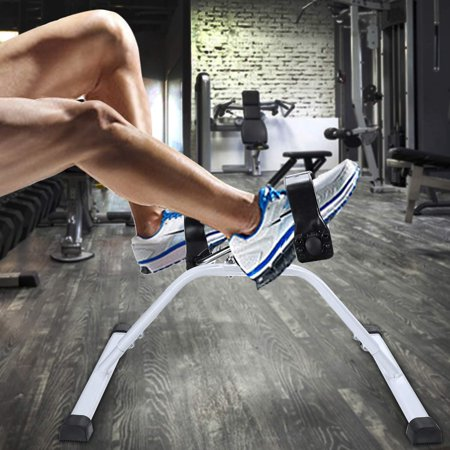gym_bike: (55, 158, 436, 439)
